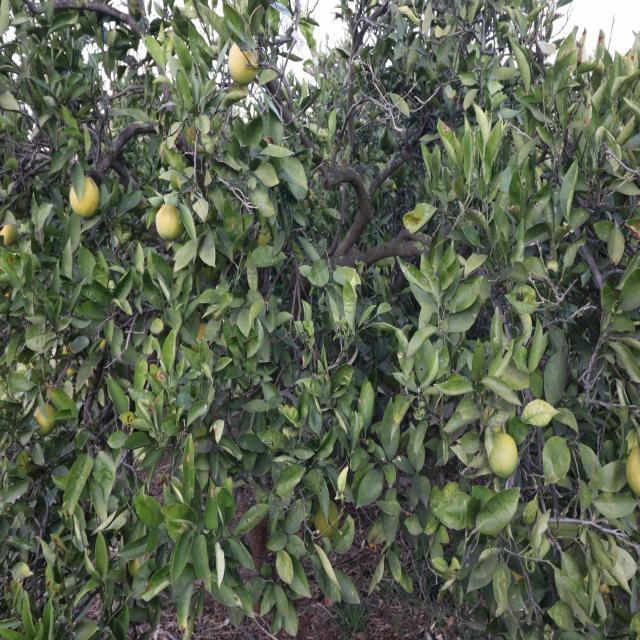Jeruk Belum Matang: (490, 432, 520, 478), (156, 204, 183, 242), (315, 500, 340, 539), (34, 404, 57, 436), (626, 446, 640, 497), (0, 222, 18, 248), (253, 222, 272, 245)
Jeruk Sudah Matang: (227, 42, 259, 87), (69, 176, 100, 216)
